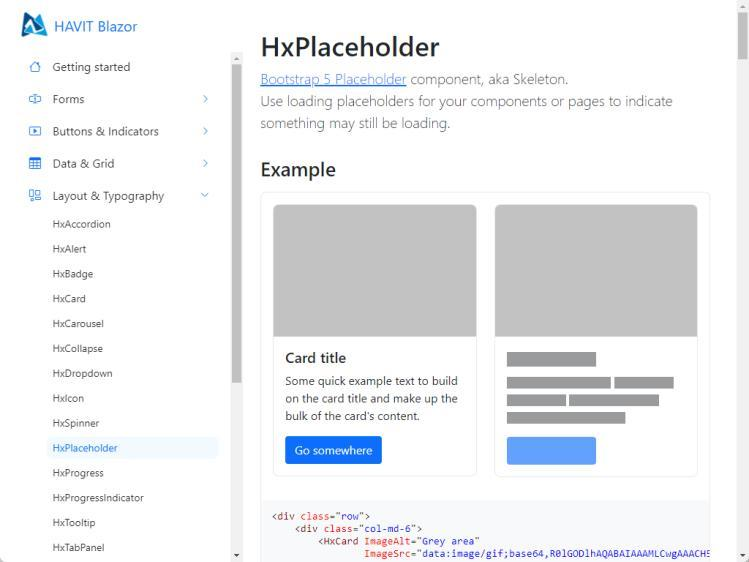button: (49, 436, 219, 460), (286, 436, 383, 465), (508, 437, 599, 466)
icon: (27, 90, 45, 106), (29, 156, 44, 172), (29, 189, 43, 206), (28, 126, 44, 140), (29, 60, 43, 76), (201, 156, 214, 173), (200, 93, 213, 106), (200, 126, 213, 138), (199, 190, 212, 202)
label: (51, 188, 166, 205), (53, 126, 161, 140), (53, 59, 134, 75), (49, 158, 120, 172), (53, 95, 93, 107)
